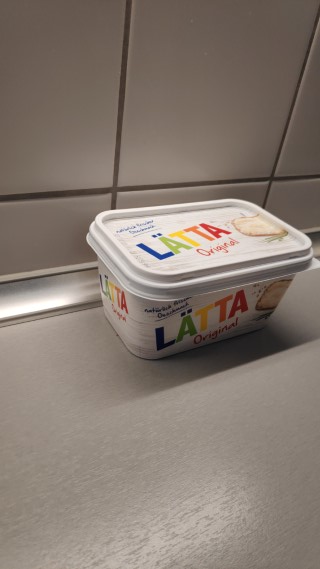laetta: (84, 197, 320, 362)
